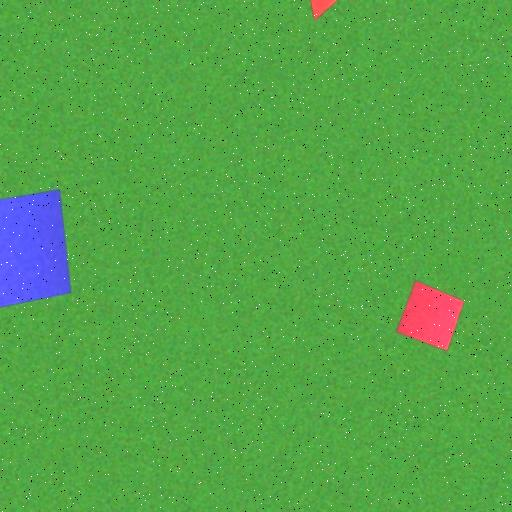BLUE_SQUARE: (0, 189, 72, 315)
RED_SQUARE: (395, 279, 465, 352)
